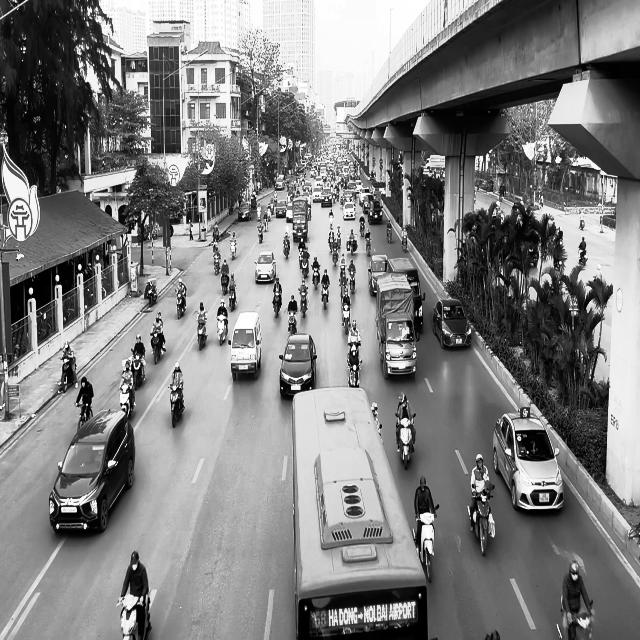bus: (291, 386, 428, 639)
car: (48, 408, 136, 533), (493, 406, 564, 512), (278, 333, 317, 397), (228, 311, 262, 381), (432, 298, 472, 349), (368, 254, 390, 296), (254, 251, 276, 283), (238, 202, 251, 221)
motorbike: (413, 504, 439, 582), (468, 483, 495, 556), (116, 592, 152, 640), (556, 598, 594, 640), (395, 412, 416, 470), (168, 383, 185, 427), (58, 355, 77, 393), (129, 351, 146, 389), (119, 384, 135, 418), (75, 401, 92, 432), (150, 330, 163, 364), (196, 314, 208, 350), (174, 288, 187, 320), (216, 314, 228, 346), (146, 279, 157, 306), (272, 292, 282, 317), (228, 286, 237, 310), (578, 246, 587, 265), (213, 252, 220, 275), (230, 240, 237, 260), (401, 236, 408, 252), (386, 227, 392, 243), (579, 218, 584, 229)
